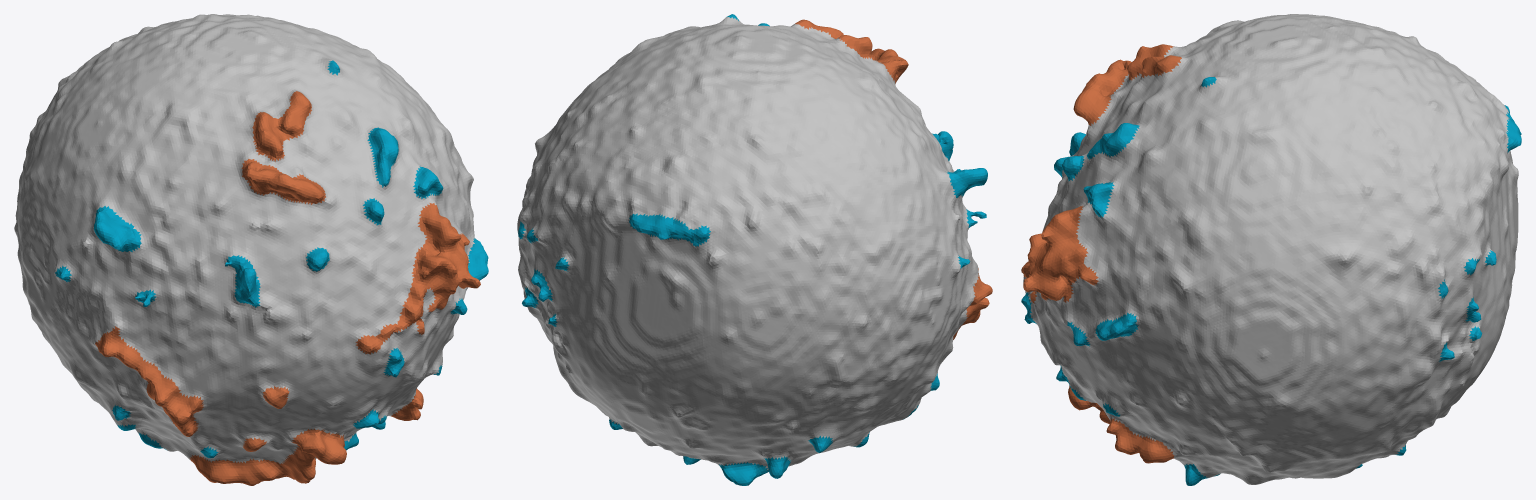
3 renders of one model, left to right at view 1: azimuth 30°, elevation 25°; view 2: azimuth 150°, elevation 25°; view 3: azimuth 270°, elevation 25°, orthographic. The views are drawn at different scales.
Size of the model in its own units: 127 by 126 by 131.
